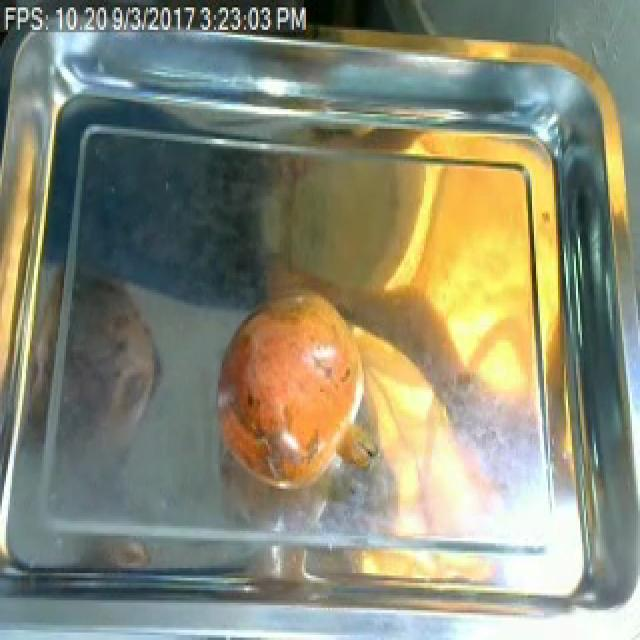fruit: (206, 278, 382, 503)
